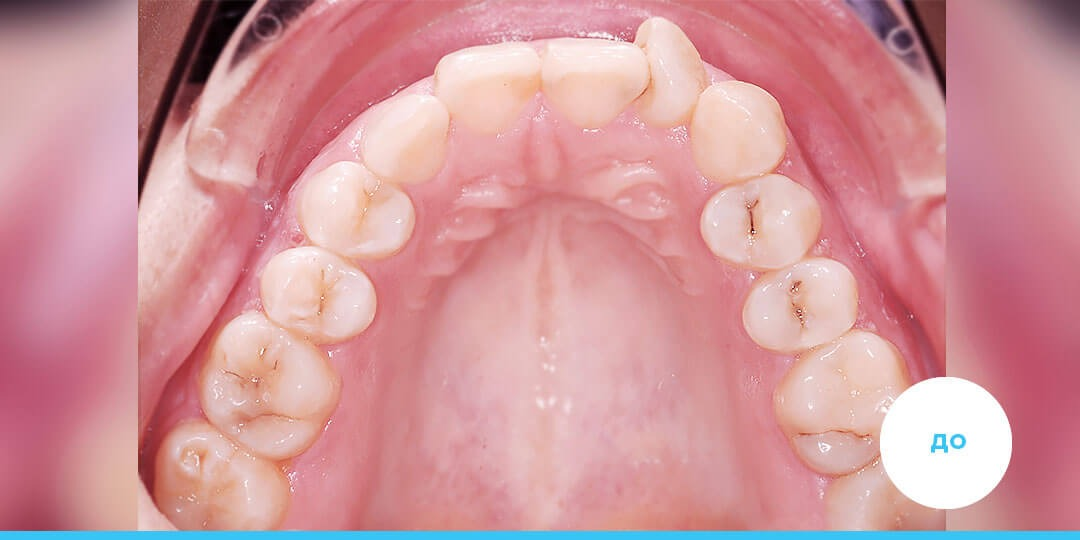UL1BC_decay: (703, 180, 824, 271)
UL1M_decay: (779, 343, 880, 480)
UL2BC_decay: (744, 268, 858, 345)
ULCI_healthy: (541, 37, 648, 136)
ULC_healthy: (697, 88, 786, 178)
ULLI_healthy: (641, 25, 703, 128)
UR1BC_healthy: (260, 247, 379, 340)
UR1M_healthy: (166, 428, 282, 526)
UR2BC_healthy: (206, 319, 341, 447)
URCI_healthy: (438, 45, 540, 128)
URC_healthy: (305, 164, 416, 252)
URLI_healthy: (362, 100, 452, 179)
